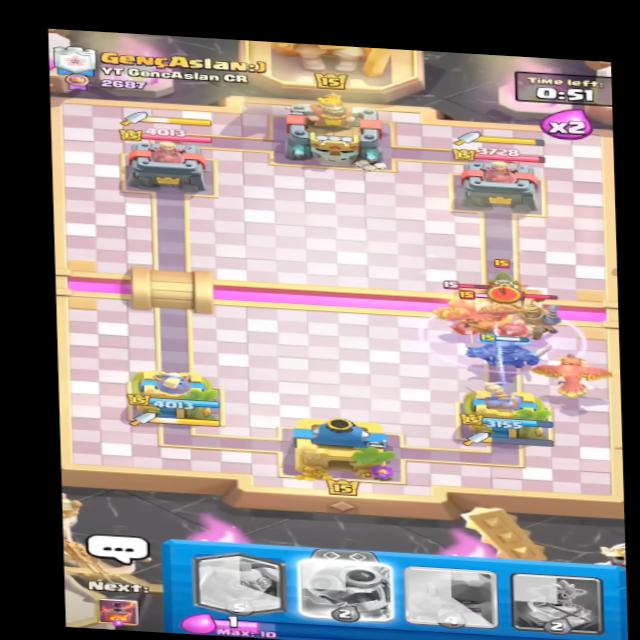bandit: (483, 257, 525, 295)
mega-knight: (446, 299, 547, 349)
phoenix: (417, 289, 526, 336)
prince: (510, 289, 565, 340)
